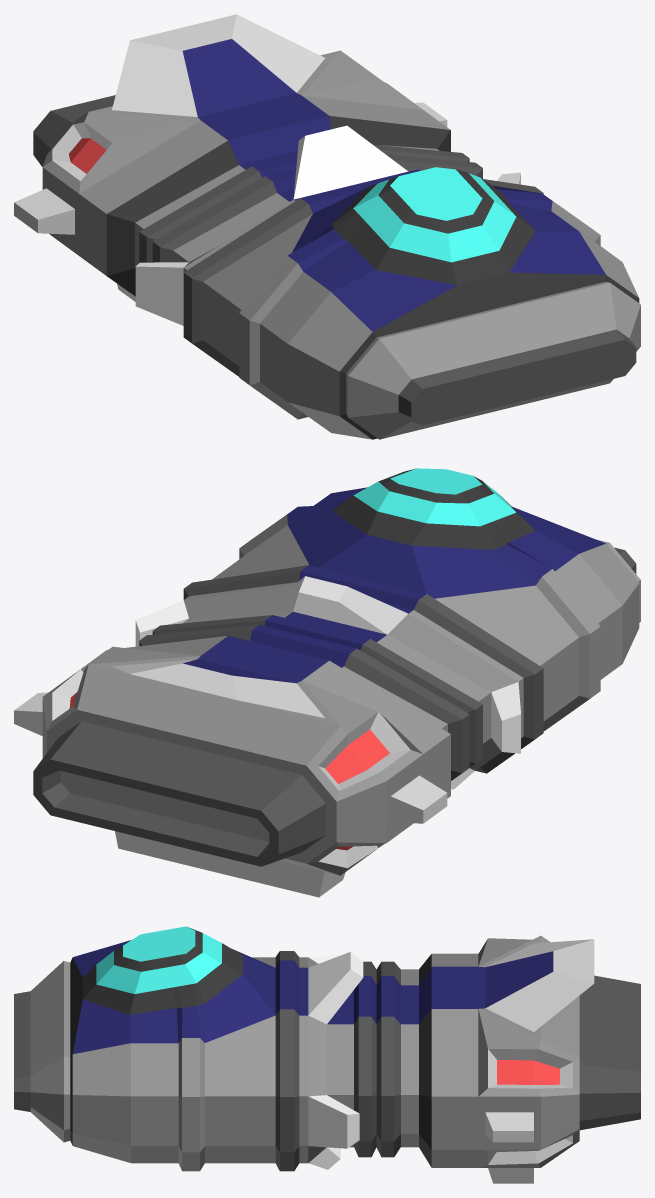
The model's file is Ship_2x3_C1.fbx.
The picture shows the model from 3 angles, top to bottom: view 1: azimuth 30°, elevation 25°; view 2: azimuth 150°, elevation 25°; view 3: azimuth 270°, elevation 25°; orthographic projection. The views are drawn at different scales.
Parts seen in each view (by area): view 1: Ship_2x3_C1; view 2: Ship_2x3_C1; view 3: Ship_2x3_C1.
Part boxes in pixels (x1=…): Ship_2x3_C1: x1=14, y1=14, x2=640, y2=439; Ship_2x3_C1: x1=14, y1=468, x2=640, y2=897; Ship_2x3_C1: x1=14, y1=926, x2=640, y2=1183.
Size of the model in its own units: 178 by 99.29 by 277.
